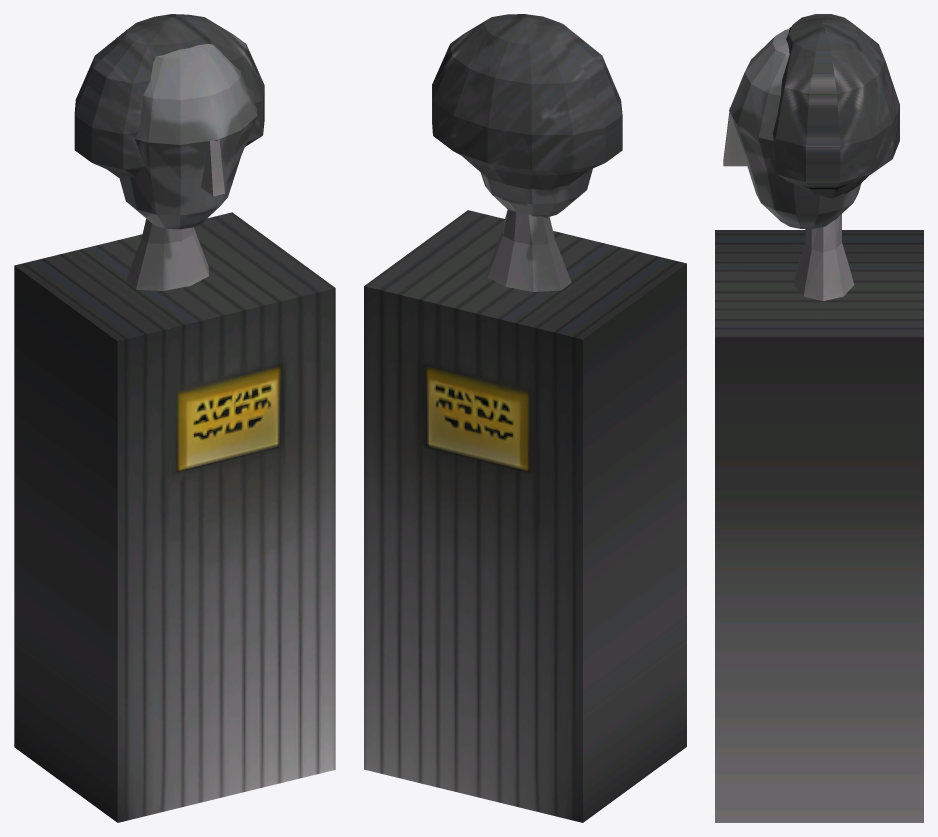
File: Ludvig.glb
The picture shows the model from 3 angles, left to right: view 1: azimuth 30°, elevation 25°; view 2: azimuth 150°, elevation 25°; view 3: azimuth 270°, elevation 25°; orthographic projection.
Visible parts, largest first — view 1: Ludvig; view 2: Ludvig; view 3: Ludvig.
Boxes of the visible parts, x1,y1,x2,y2 form: Ludvig: (14,14,335,822); Ludvig: (364,14,686,822); Ludvig: (715,14,923,822).
Bounding box in the file's own units: 139 × 451 × 114.
1 material, 1 textured.
